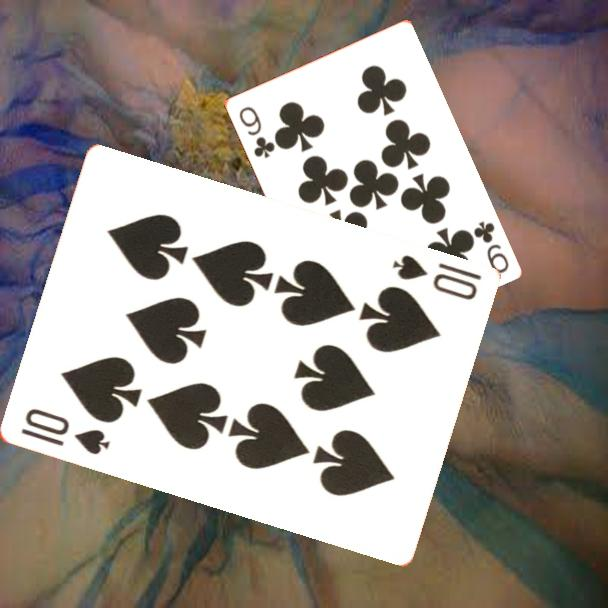c09: (469, 217, 512, 276), (235, 103, 278, 161)
s10: (388, 251, 484, 304), (17, 405, 112, 458)
